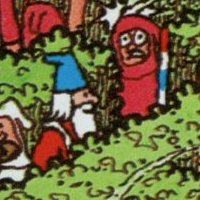wb: (46, 49, 96, 136)
